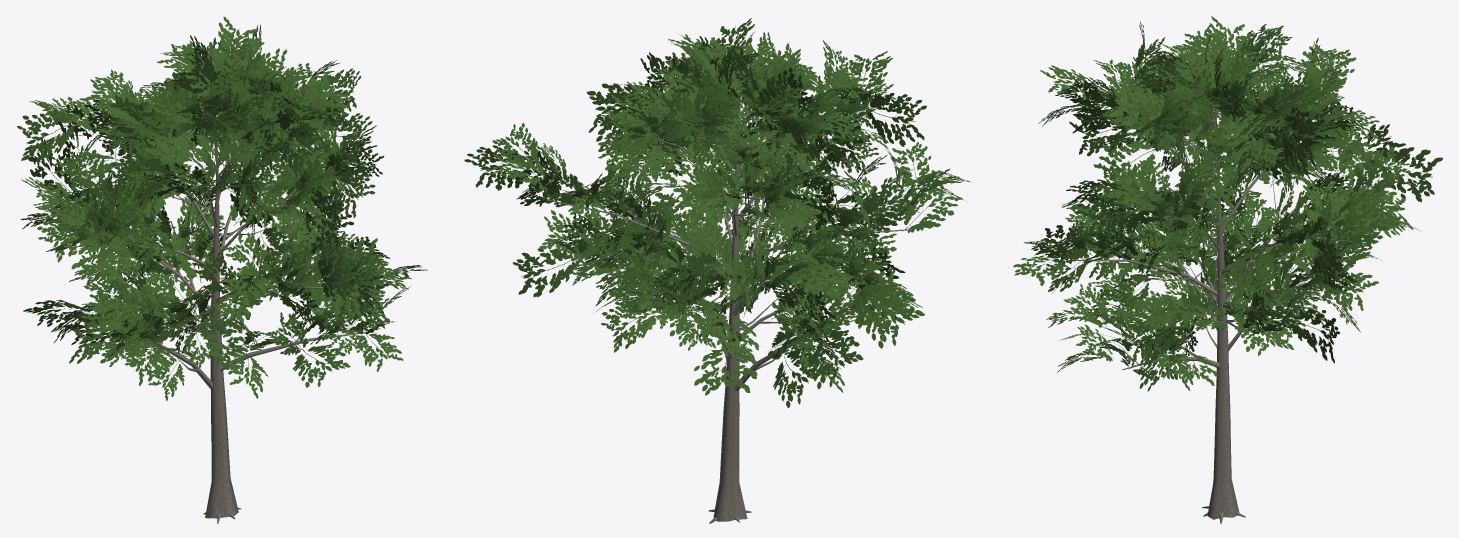
File: AmericanBeech.fbx
3 views of the same model, side by side, from view 1: azimuth 30°, elevation 25°; view 2: azimuth 150°, elevation 25°; view 3: azimuth 270°, elevation 25° (orthographic).
Parts seen in each view (by area): view 1: Foliage, Bark; view 2: Foliage, Bark; view 3: Foliage, Bark.
Part boxes in pixels (box(x1,y1,x2,y2)): Foliage: box(17, 16, 427, 400); Bark: box(65, 113, 366, 523); Foliage: box(464, 18, 970, 407); Bark: box(540, 96, 912, 523); Foliage: box(1013, 16, 1442, 391); Bark: box(1068, 94, 1352, 523).
Bounding box in the file's own units: 20.33 × 22.32 × 19.14.
